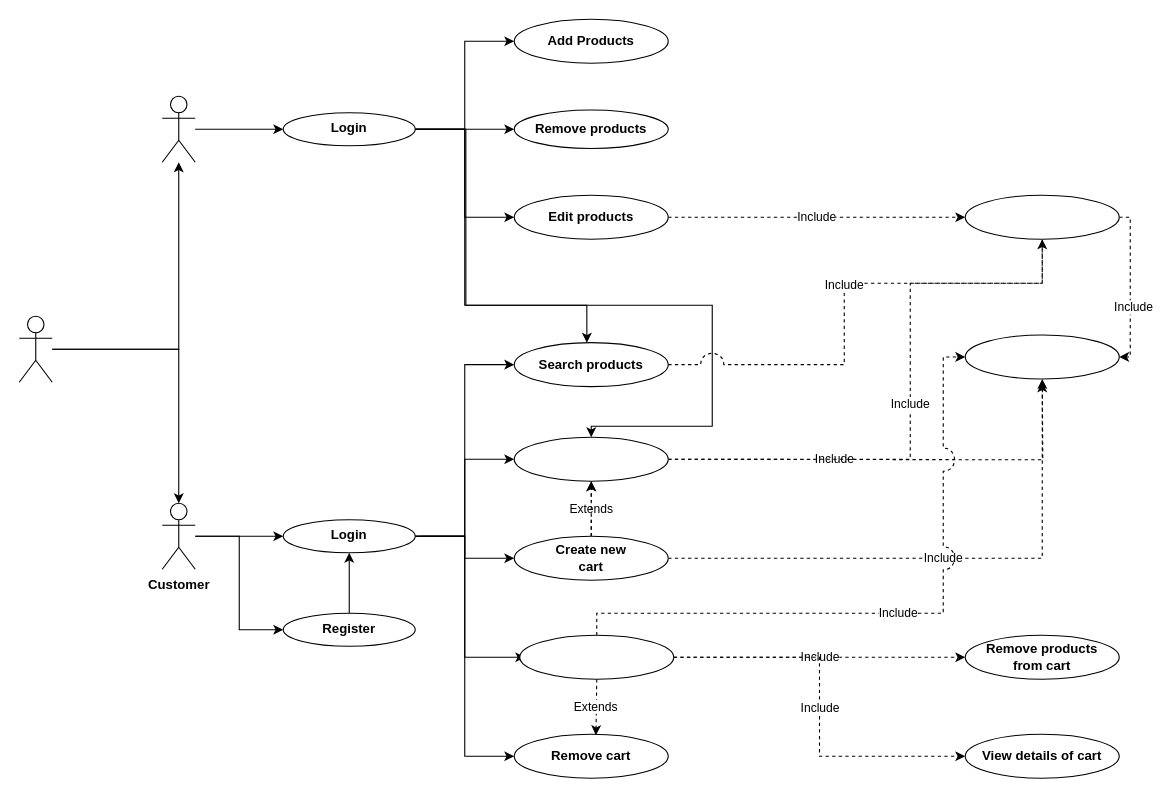
Some shapes in this 1172 by 798 pixel diagram are drawn without their labels. Each missing label, with the centre of its shape:
"Add product to cart" belongs at point 1041,356.
"Browse products" belongs at point 590,458.
"Business Admin" belongs at point 178,128.
"User" belongs at point 35,348.
"View carts" belongs at point 596,656.
"View product details" belongs at point 1041,216.
